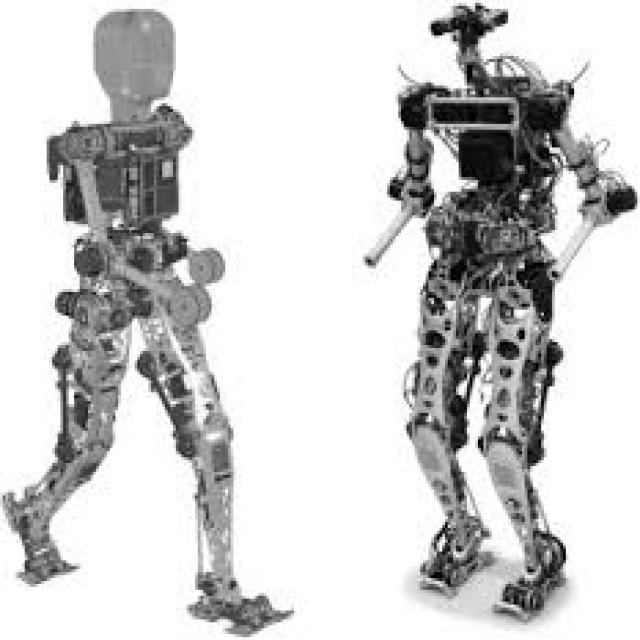humanoid-leg: (6, 347, 118, 583), (182, 432, 292, 633), (486, 438, 567, 620), (404, 409, 477, 595)
